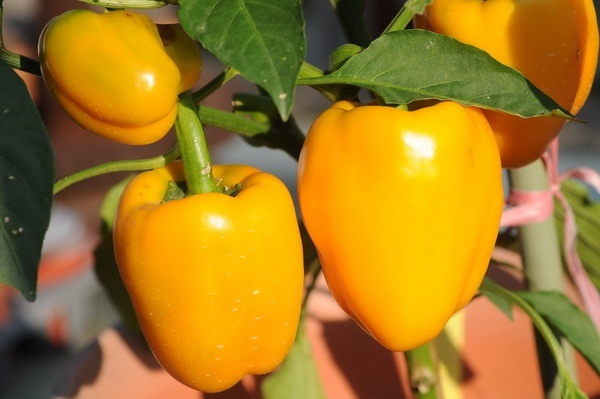fruit: (296, 99, 505, 353), (112, 159, 306, 393), (411, 2, 600, 168), (38, 9, 181, 147)
pedicle: (160, 179, 242, 202)
